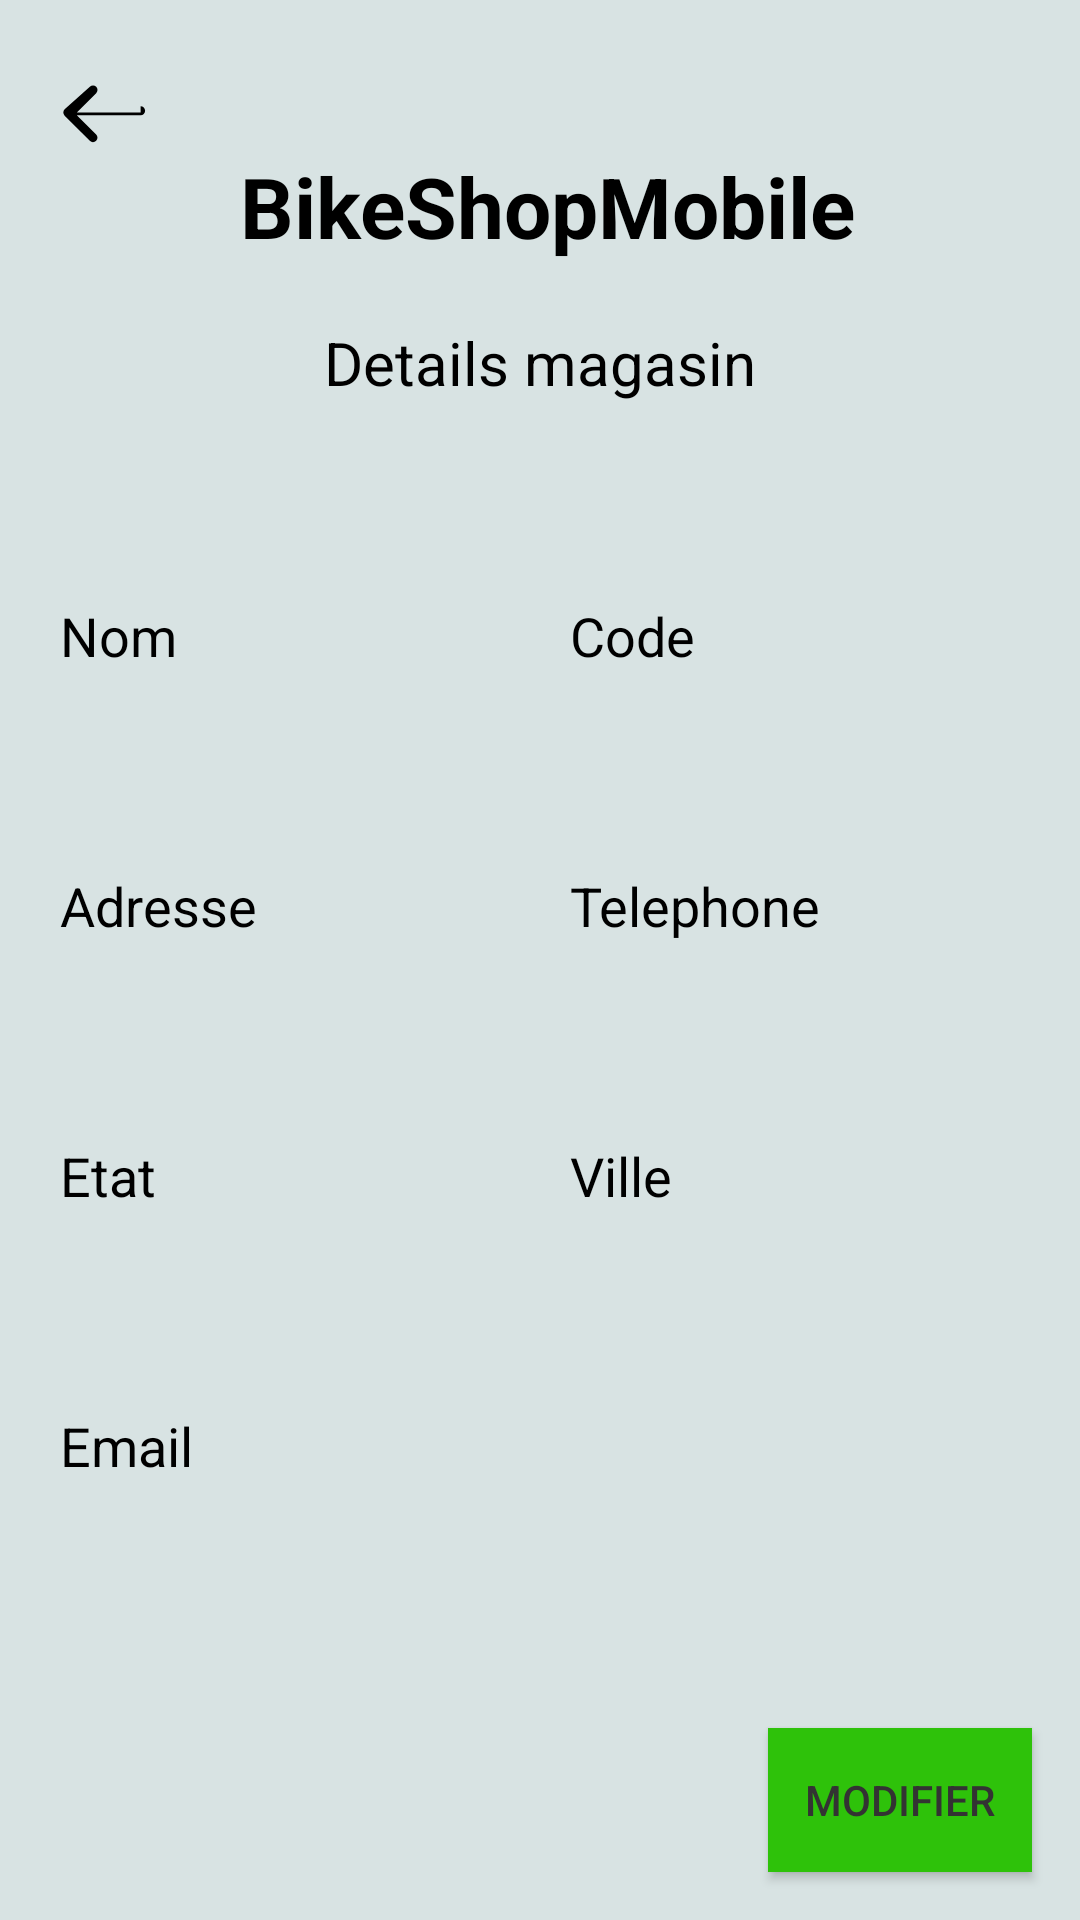

Screen size 1080x1920. Icon name, then its box in pixels as (x1, y1, x2, y2):
back: (63, 85, 145, 143)
